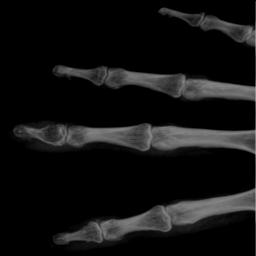cancer: (37, 123, 66, 144)
